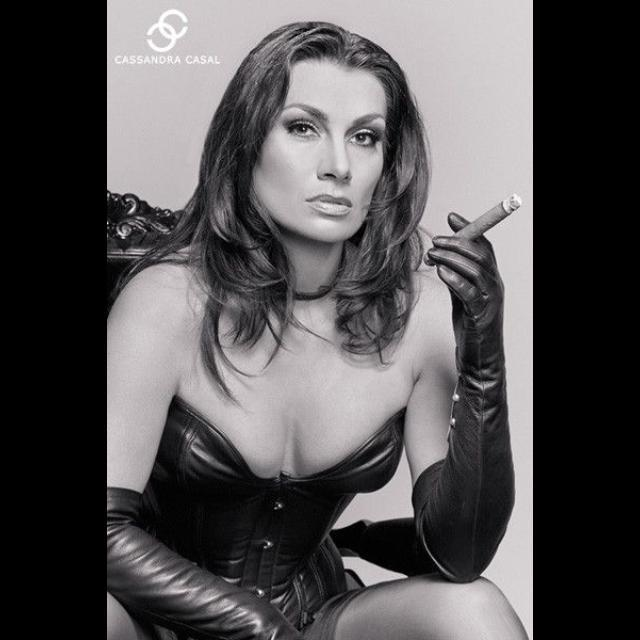rokok: (438, 190, 532, 256)
